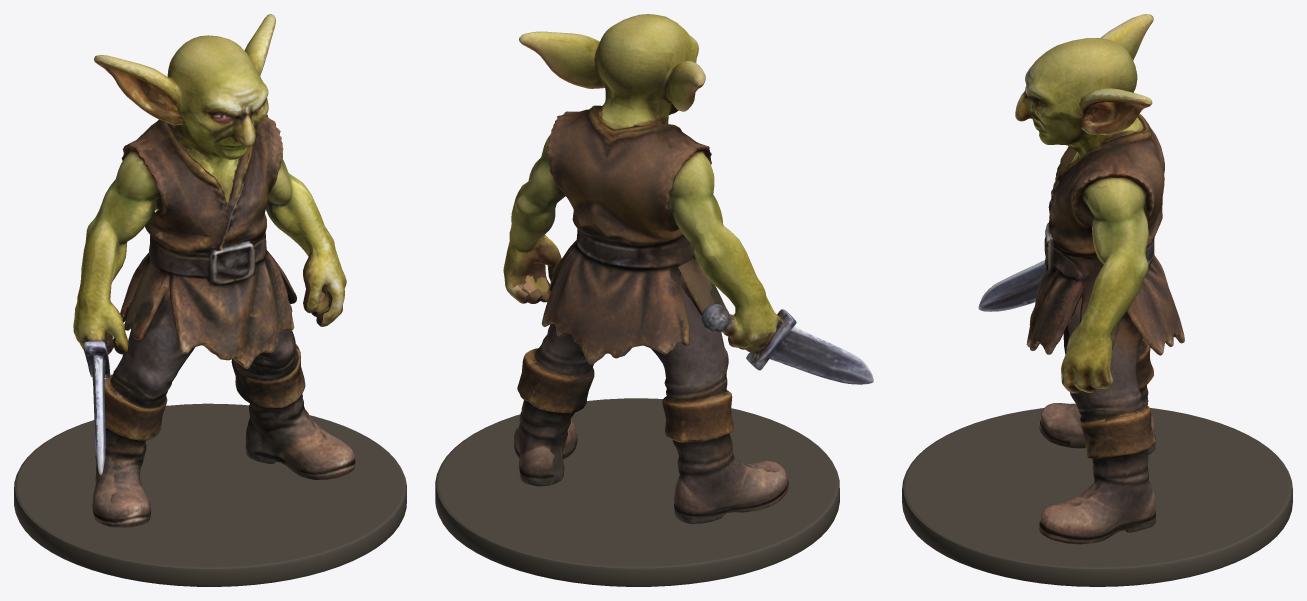
Rendered from goblin.glb.
3 views of the same model, side by side, from view 1: azimuth 30°, elevation 25°; view 2: azimuth 150°, elevation 25°; view 3: azimuth 270°, elevation 25° (orthographic). The views are drawn at different scales.
Visible parts, largest first — view 1: goblin_body, goblin_round_base; view 2: goblin_body, goblin_round_base; view 3: goblin_body, goblin_round_base.
Part boxes in pixels (<box>): goblin_body: <box>73,14,355,527</box>; goblin_round_base: <box>14,403,406,586</box>; goblin_body: <box>503,14,873,523</box>; goblin_round_base: <box>435,398,839,586</box>; goblin_body: <box>978,14,1184,544</box>; goblin_round_base: <box>902,408,1292,586</box>.
Bounding box in the file's own units: 1 × 1.3 × 1.
Materials: 2 (1 with a texture image).
